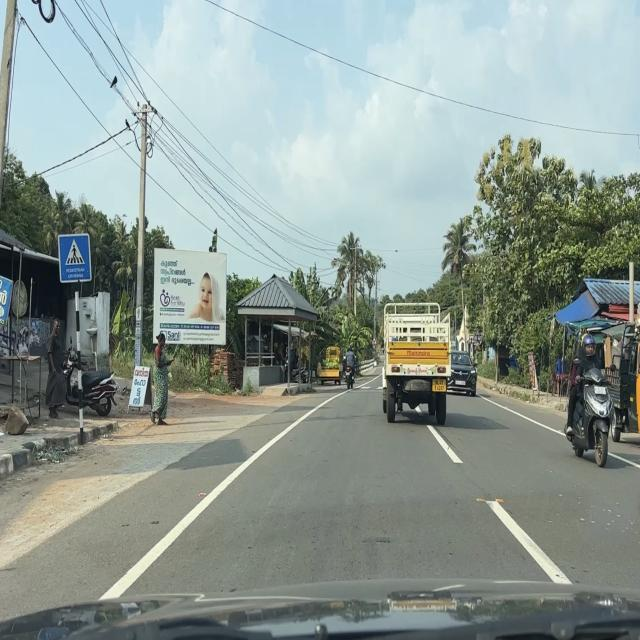PEDESTRIAN_CROSSING: (58, 232, 92, 284)
